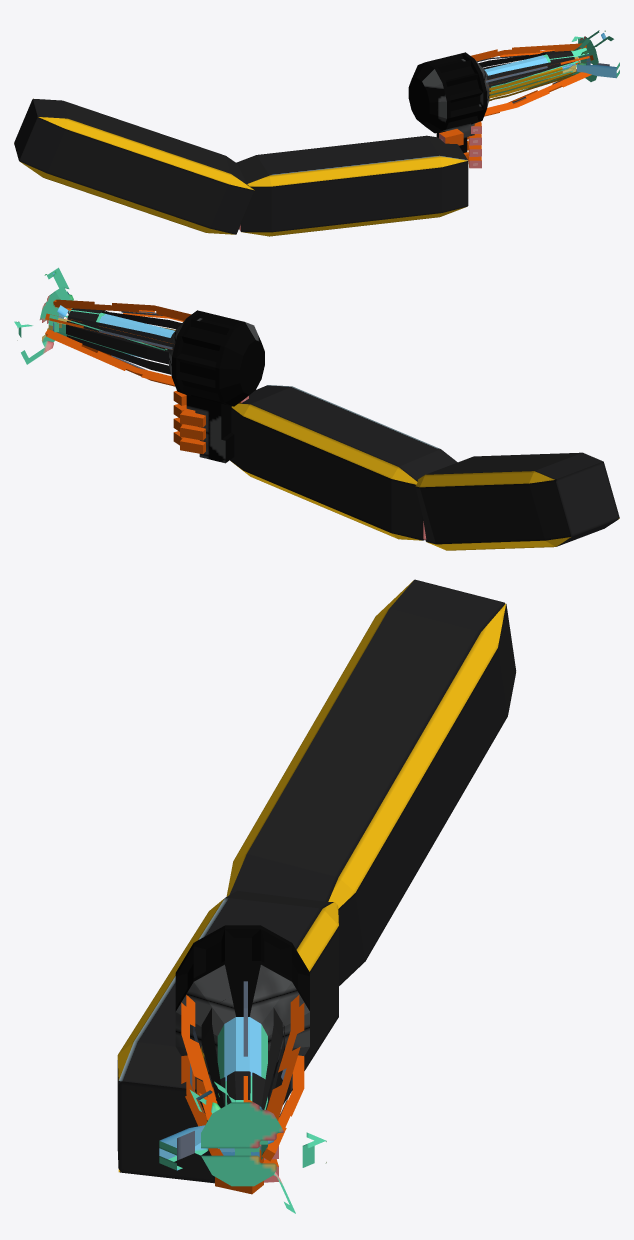
File: SpaceGun 1.fbx
3 renders of one model, top to bottom at view 1: azimuth 30°, elevation 25°; view 2: azimuth 150°, elevation 25°; view 3: azimuth 270°, elevation 25°, orthographic. The views are drawn at different scales.
Visible parts, largest first — view 1: beveled_cuboid, beveled_cuboid_1, cylinder_3, cylinder, cylinder_1, cylinder_2, mesh_4, mesh_1, mesh_5, mesh_6; view 2: beveled_cuboid_1, beveled_cuboid, cylinder_3, cylinder, cylinder_1, cylinder_2, mesh_1, mesh_2, mesh; view 3: beveled_cuboid, beveled_cuboid_1, cylinder_3, cylinder_2, cylinder, cylinder_1, mesh, mesh_5, mesh_2, mesh_4.
Part boxes in pixels (bbox=[...]): beveled_cuboid: bbox=[14, 98, 254, 234]; beveled_cuboid_1: bbox=[236, 135, 468, 236]; cylinder_3: bbox=[408, 52, 490, 152]; cylinder: bbox=[478, 50, 576, 101]; cylinder_1: bbox=[484, 47, 590, 95]; cylinder_2: bbox=[571, 30, 619, 81]; mesh_4: bbox=[484, 72, 591, 115]; mesh_1: bbox=[471, 43, 586, 61]; mesh_5: bbox=[485, 55, 593, 85]; mesh_6: bbox=[439, 129, 463, 145]; beveled_cuboid_1: bbox=[230, 385, 457, 540]; beveled_cuboid: bbox=[415, 452, 619, 550]; cylinder_3: bbox=[167, 310, 264, 463]; cylinder: bbox=[66, 308, 181, 374]; cylinder_1: bbox=[48, 305, 174, 358]; cylinder_2: bbox=[14, 267, 73, 364]; mesh_1: bbox=[53, 299, 191, 320]; mesh_2: bbox=[45, 329, 174, 385]; mesh: bbox=[45, 313, 172, 349]; beveled_cuboid: bbox=[226, 579, 516, 985]; beveled_cuboid_1: bbox=[117, 890, 338, 1183]; cylinder_3: bbox=[175, 925, 309, 1088]; cylinder_2: bbox=[159, 1081, 326, 1213]; cylinder: bbox=[201, 999, 284, 1109]; cylinder_1: bbox=[217, 1017, 267, 1159]; mesh: bbox=[266, 995, 304, 1120]; mesh_5: bbox=[181, 995, 217, 1120]; mesh_2: bbox=[261, 1055, 304, 1161]; mesh_4: bbox=[181, 1055, 223, 1155].
Size of the model in its own units: 926 by 217 by 296.
